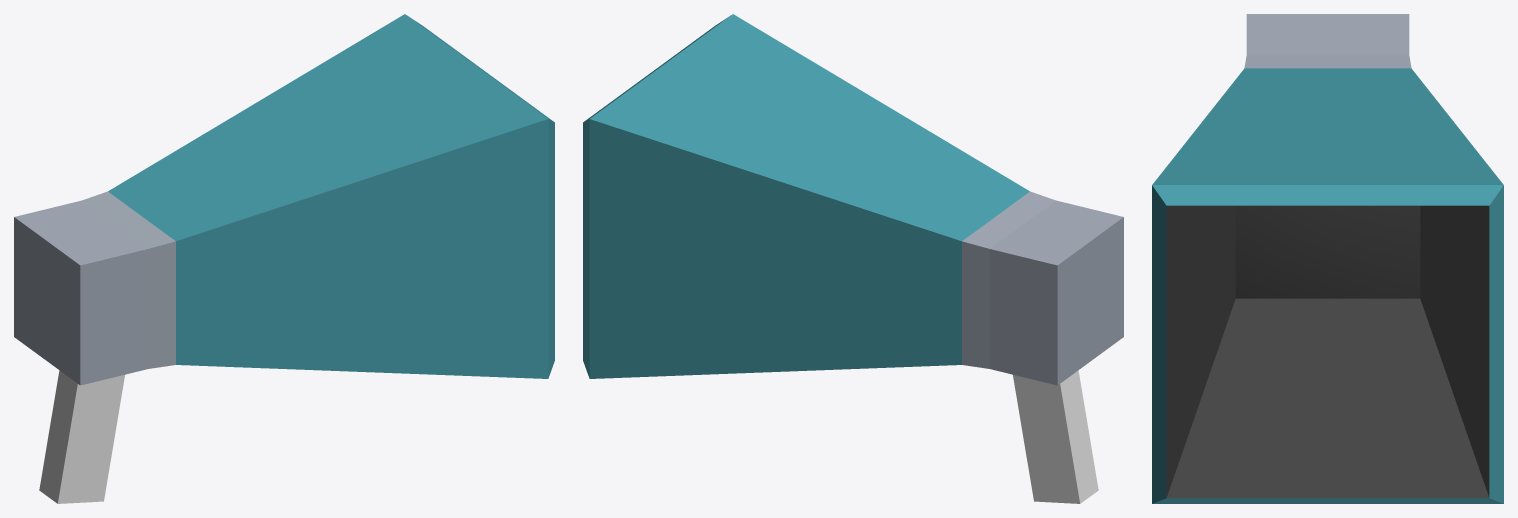
The model's file is Alto_Falante_Azul.fbx.
3 renders of one model, left to right at view 1: azimuth 30°, elevation 25°; view 2: azimuth 150°, elevation 25°; view 3: azimuth 270°, elevation 25°, orthographic. The views are drawn at different scales.
Parts seen in each view (by area): view 1: pCylinder1, pCube1; view 2: pCylinder1, pCube1; view 3: pCylinder1.
Part boxes in pixels (box(x1,y1,x2,y2)): pCylinder1: box(14, 14, 554, 385); pCube1: box(39, 370, 124, 503); pCylinder1: box(583, 14, 1123, 385); pCube1: box(1013, 370, 1098, 503); pCylinder1: box(1152, 14, 1503, 503).
Size of the model in its own units: 1.96 by 1.1 by 1.42.
